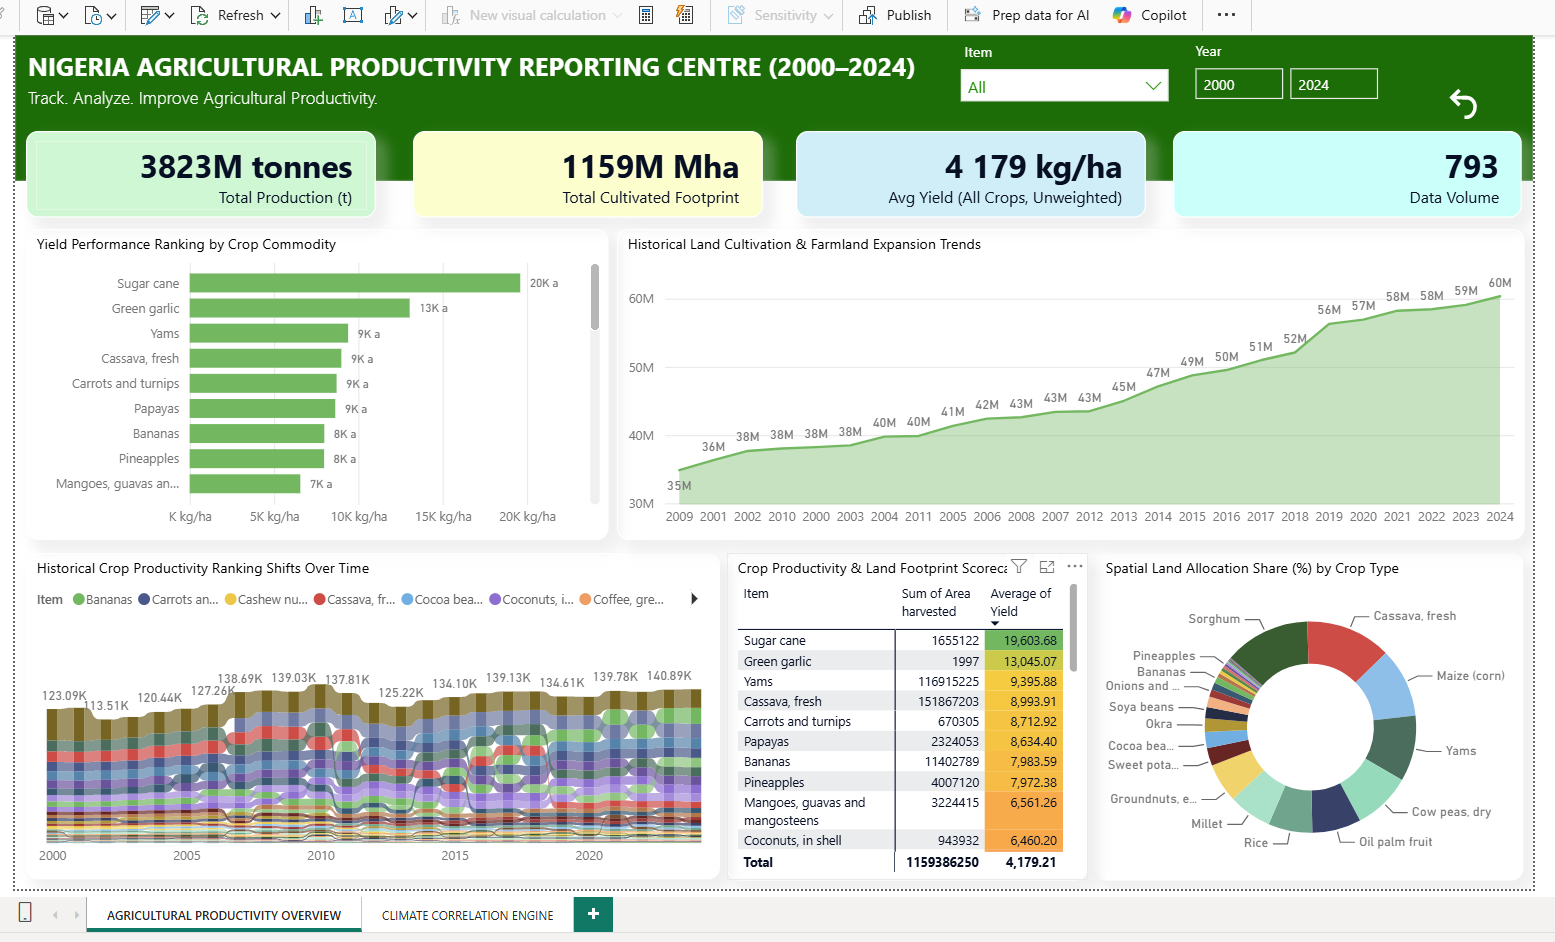

This screenshot's page, from the dashboard's own definition file:
{"tool":"powerbi","page":{"name":"AGRICULTURAL PRODUCTIVITY OVERVIEW","canvas":[1280,720],"ordinal":0},"visuals":[{"type":"shape","box":[0,0,1280,123.1],"z":0},{"type":"cardVisual","title":"Total Output","fields":{"Data":["Sum(FAOSTAT_data_en_5-16-2026.Production (t))"]},"box":[9.5,81.1,295,73.3],"z":1000},{"type":"cardVisual","title":"Land Footprint","fields":{"Data":["Sum(FAOSTAT_data_en_5-16-2026.Area harvested)"]},"box":[335.5,81.1,295,73.3],"z":2000},{"type":"cardVisual","title":"Land Footprint","fields":{"Data":["FAOSTAT_data_en_5-16-2026.Average Efficiency"]},"box":[658.1,81.1,295,73.3],"z":3000},{"type":"cardVisual","title":"Land Footprint","fields":{"Data":["FAOSTAT_data_en_5-16-2026.Data Volume"]},"box":[976.4,81.1,294.1,73.3],"z":4000},{"type":"clusteredBarChart","title":"Yield Performance Ranking by Crop Commodity","fields":{"Category":["FAOSTAT_data_en_5-16-2026.Item"],"Y":["Avg(FAOSTAT_data_en_5-16-2026.Yield)"]},"box":[9.3,163.6,490.7,262.2],"z":5000},{"type":"ribbonChart","title":"Historical Crop Productivity Ranking Shifts Over Time","fields":{"Category":["FAOSTAT_data_en_5-16-2026.Year"],"Series":["FAOSTAT_data_en_5-16-2026.Item"],"Y":["Avg(FAOSTAT_data_en_5-16-2026.Yield)"]},"box":[9.5,436.4,584.8,275.1],"z":6000},{"type":"donutChart","title":"Spatial Land Allocation Share (%) by Crop Type","fields":{"Category":["FAOSTAT_data_en_5-16-2026.Item"],"Y":["Sum(FAOSTAT_data_en_5-16-2026.Area harvested)"]},"box":[910.8,436.4,361.3,275.6],"z":7000},{"type":"slicer","fields":{"Values":["FAOSTAT_data_en_5-16-2026.Year"]},"box":[982.4,0,200.1,81.1],"z":8000},{"type":"areaChart","title":"Historical Land Cultivation & Farmland Expansion Trends","fields":{"Category":["FAOSTAT_data_en_5-16-2026.Year"],"Y":["Sum(FAOSTAT_data_en_5-16-2026.Area harvested)"]},"box":[507.2,163.9,765.1,262.2],"z":9000},{"type":"pivotTable","title":"Crop Productivity & Land Footprint Scorecard","fields":{"Rows":["FAOSTAT_data_en_5-16-2026.Item"],"Values":["Sum(FAOSTAT_data_en_5-16-2026.Area harvested)","Avg(FAOSTAT_data_en_5-16-2026.Yield)"]},"box":[600.7,436.4,303.9,275.6],"z":10000},{"type":"textbox","box":[6.3,7.2,768.4,38.5],"z":11000},{"type":"slicer","fields":{"Values":["FAOSTAT_data_en_5-16-2026.Item"]},"box":[787.5,0.9,194.9,67.3],"z":12000},{"type":"actionButton","title":"RESET","box":[1173.1,40.3,97.6,34.9],"z":13000},{"type":"textbox","box":[6.3,36.7,315.2,31.3],"z":15000}]}

Visuals, with their boxes on the page's 1280x720 design canvas (x1, y1, x2, y2). These are canvas units, not pixel positions in the 1555x942 screenshot, which may show the page scaled, cropped or inside an application window:
shape: box(0, 0, 1280, 123)
"Total Output" cardVisual: box(10, 81, 304, 154)
"Land Footprint" cardVisual: box(336, 81, 630, 154)
"Land Footprint" cardVisual: box(658, 81, 953, 154)
"Land Footprint" cardVisual: box(976, 81, 1270, 154)
"Yield Performance Ranking by Crop Commodity" clusteredBarChart: box(9, 164, 500, 426)
"Historical Crop Productivity Ranking Shifts Over Time" ribbonChart: box(10, 436, 594, 712)
"Spatial Land Allocation Share (%) by Crop Type" donutChart: box(911, 436, 1272, 712)
slicer - FAOSTAT_data_en_5-16-2026.Year: box(982, 0, 1182, 81)
"Historical Land Cultivation & Farmland Expansion Trends" areaChart: box(507, 164, 1272, 426)
"Crop Productivity & Land Footprint Scorecard" pivotTable: box(601, 436, 905, 712)
textbox: box(6, 7, 775, 46)
slicer - FAOSTAT_data_en_5-16-2026.Item: box(788, 1, 982, 68)
"RESET" actionButton: box(1173, 40, 1271, 75)
textbox: box(6, 37, 322, 68)
